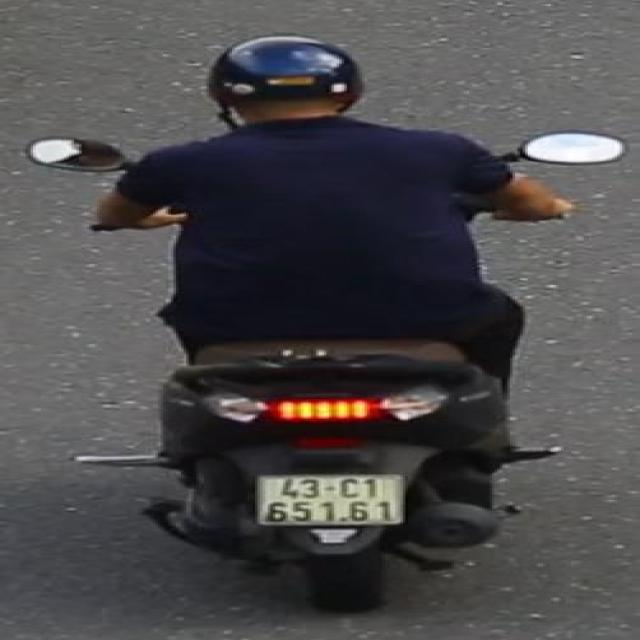LP: (252, 468, 410, 528)
helmet: (200, 30, 374, 130)
